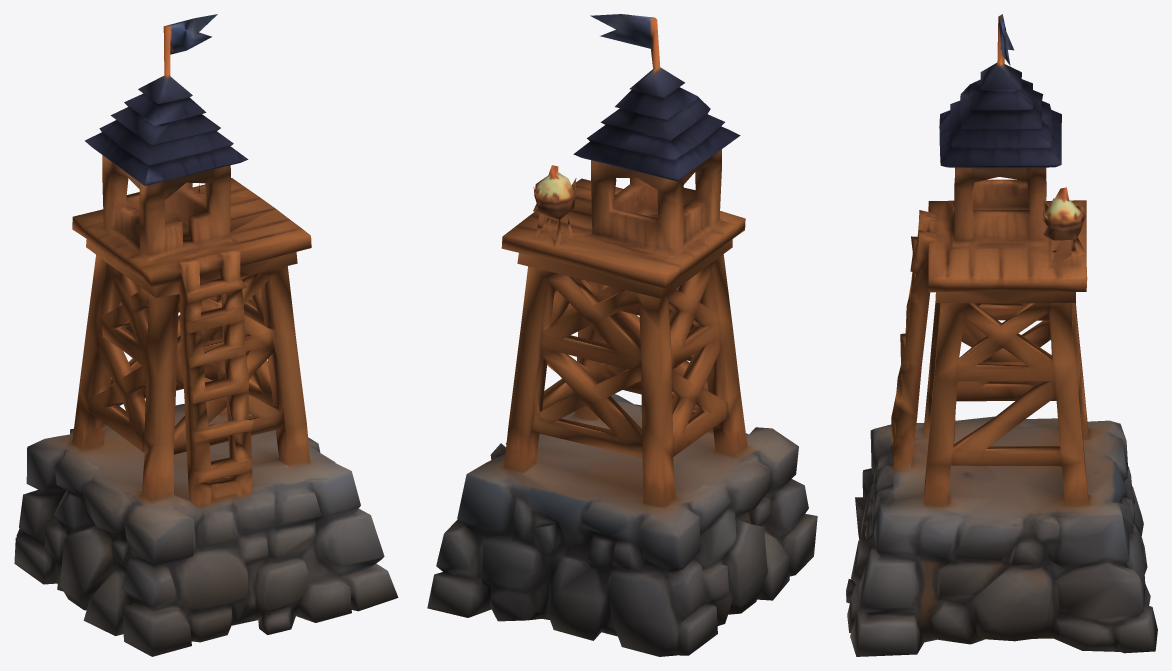
The model's file is watchtower.glb.
3 views of the same model, side by side, from view 1: azimuth 30°, elevation 25°; view 2: azimuth 150°, elevation 25°; view 3: azimuth 270°, elevation 25° (orthographic).
Visible parts, largest first — view 1: geometry_0.001; view 2: geometry_0.001; view 3: geometry_0.001.
Boxes of the visible parts, bbox=[...] form: geometry_0.001: bbox=[14, 14, 398, 656]; geometry_0.001: bbox=[427, 14, 817, 656]; geometry_0.001: bbox=[846, 14, 1157, 656].
Bounding box in the file's own units: 0.9655 × 1.99 × 0.9978.
1 material, 1 textured.
